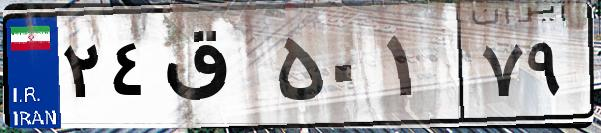0: (330, 28, 385, 110)
1: (385, 28, 445, 110)
2: (57, 26, 110, 100)
4: (110, 28, 158, 98)
5: (270, 28, 330, 110)
7: (475, 38, 525, 113)
9: (525, 38, 570, 115)
ق: (158, 20, 270, 120)
